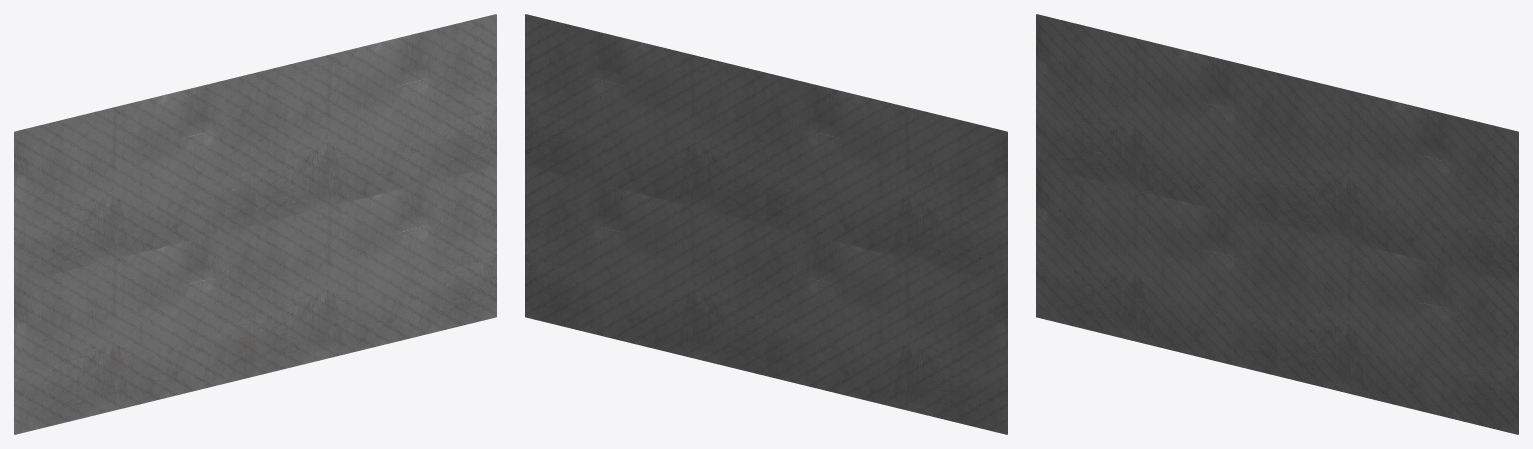
The model's file is FncMeshALngA01.fbx.
3 views of the same model, side by side, from view 1: azimuth 30°, elevation 25°; view 2: azimuth 150°, elevation 25°; view 3: azimuth 330°, elevation 25° (orthographic).
Visible parts, largest first — view 1: FncMeshALngA01; view 2: FncMeshALngA01; view 3: FncMeshALngA01.
Part boxes in pixels (bbox=[...]): FncMeshALngA01: bbox=[14, 14, 496, 434]; FncMeshALngA01: bbox=[525, 14, 1007, 434]; FncMeshALngA01: bbox=[1036, 14, 1518, 434].
Bounding box in the file's own units: 250 × 150 × 0.5.
